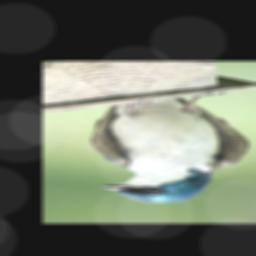Swallow: (89, 89, 249, 204)
